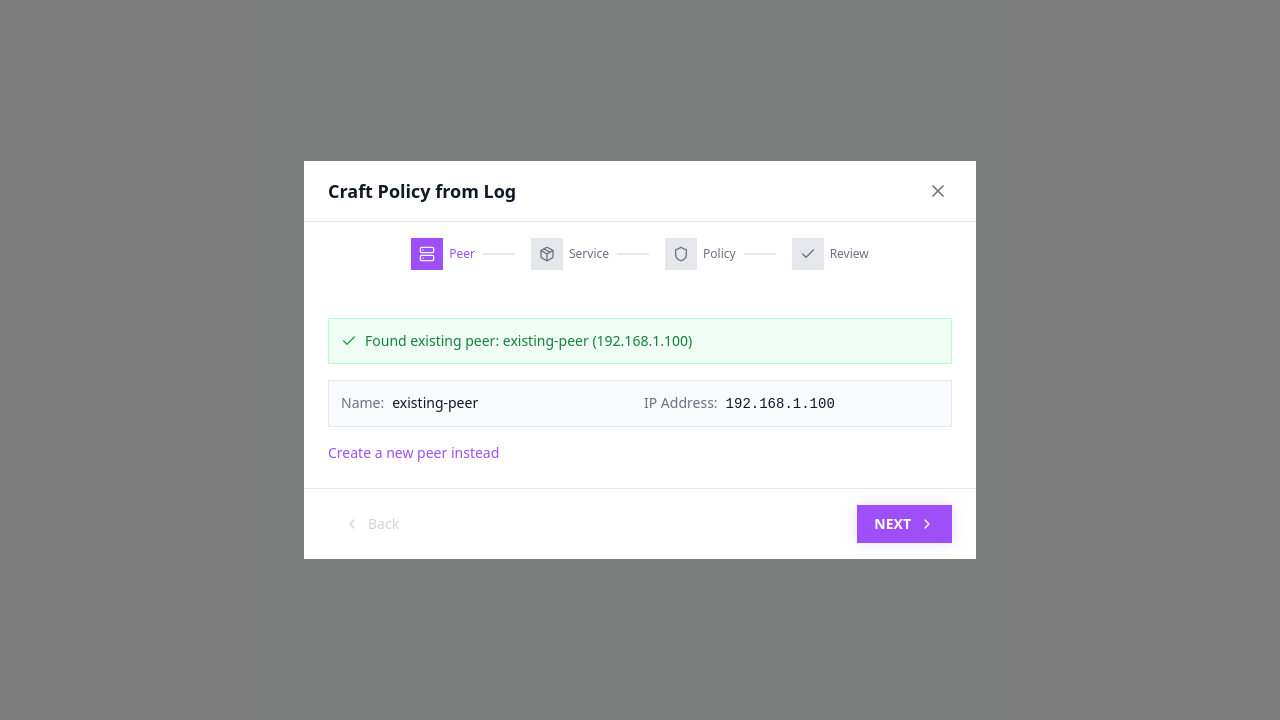
Test: CraftPolicyWizard › service detection and creation › displays ICMP system service as existing service when API returns it
The width and height of the screenshot is (1280, 720).
Expected: the text "Found existing peer: existing-peer (192.168.1.100)" is shown, [365, 331, 692, 351]
Click the button "Next": (905, 524) [857, 505, 952, 543]
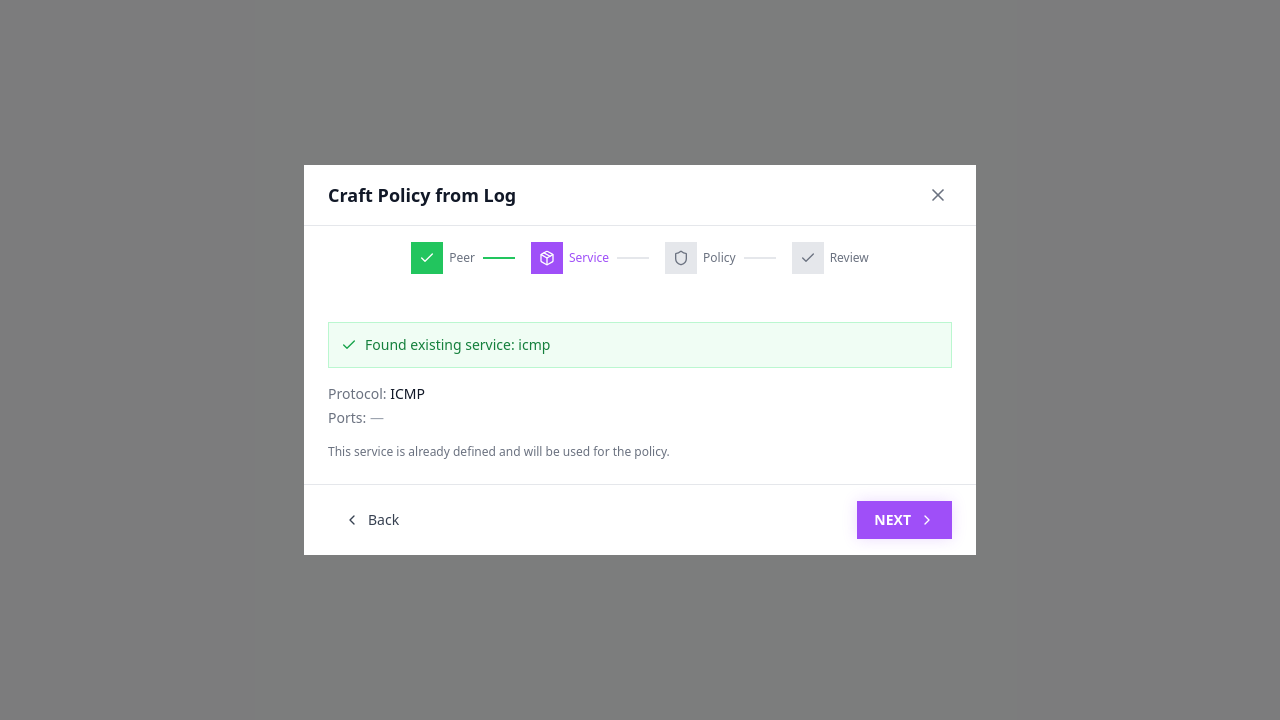
Now the text "Found existing service: icmp" is shown, box [365, 335, 550, 355]
